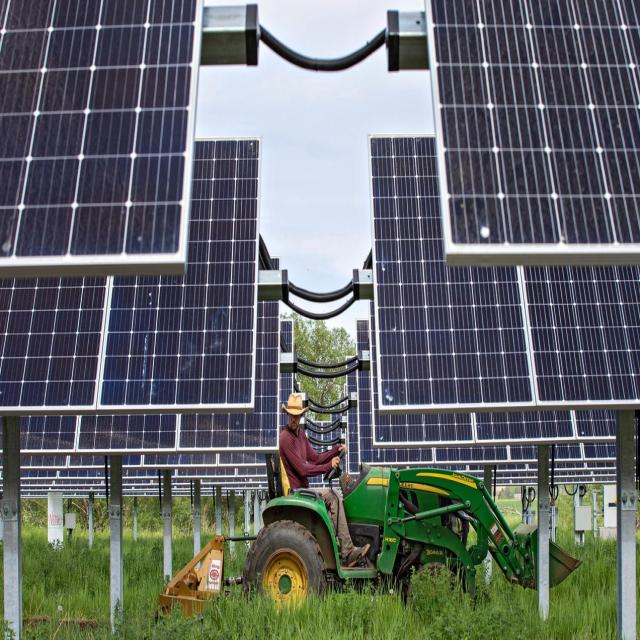clean-solar-panel: (426, 0, 640, 264), (1, 0, 202, 278)
